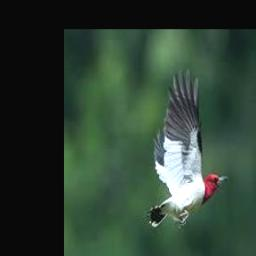Woodpecker: (145, 68, 228, 228)
